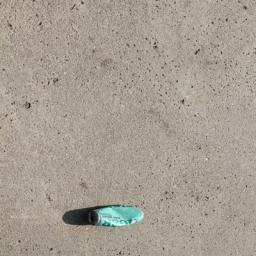FOD: (64, 198, 148, 230)
